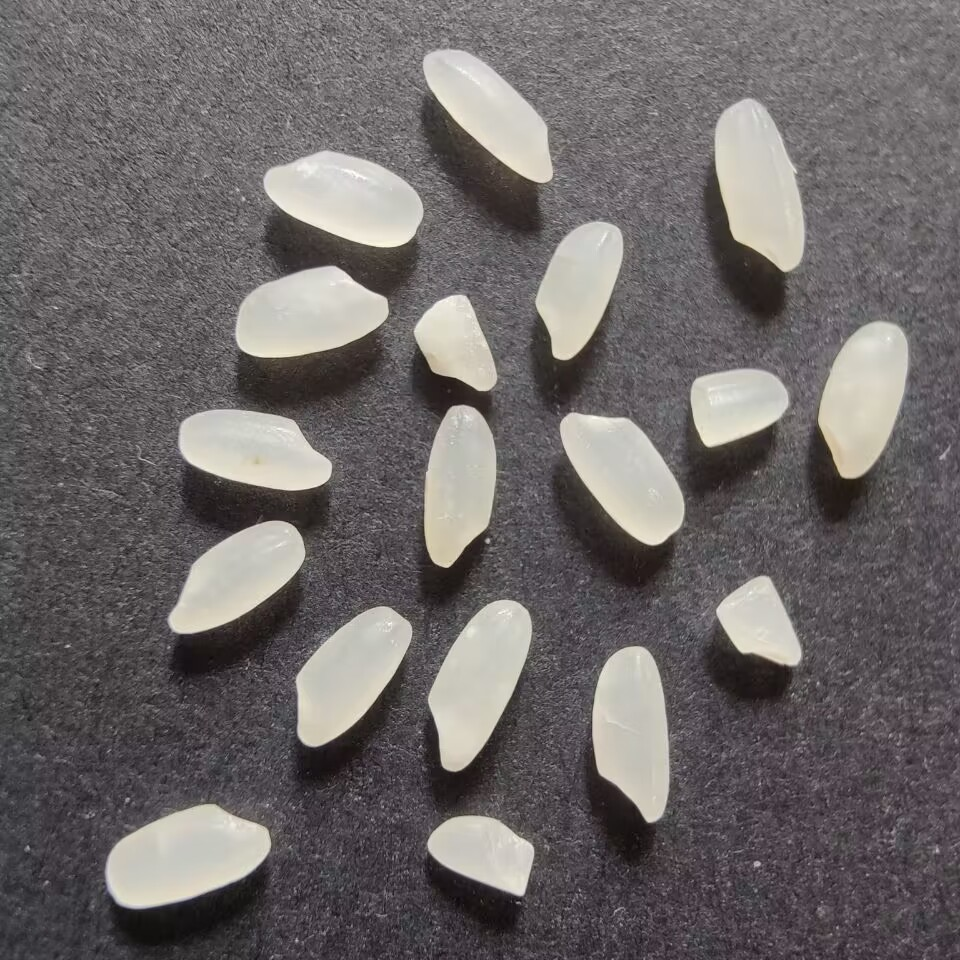broken: (418, 812, 538, 902), (709, 567, 807, 673), (404, 289, 500, 397), (682, 364, 794, 450)
rice: (416, 41, 564, 189), (422, 593, 537, 774), (100, 797, 279, 913), (556, 406, 690, 548), (289, 601, 415, 751), (256, 144, 426, 255), (160, 515, 311, 637), (711, 90, 808, 279), (225, 260, 396, 361), (812, 313, 913, 483), (586, 640, 676, 828), (528, 218, 629, 367), (167, 406, 333, 493), (416, 399, 500, 570)
